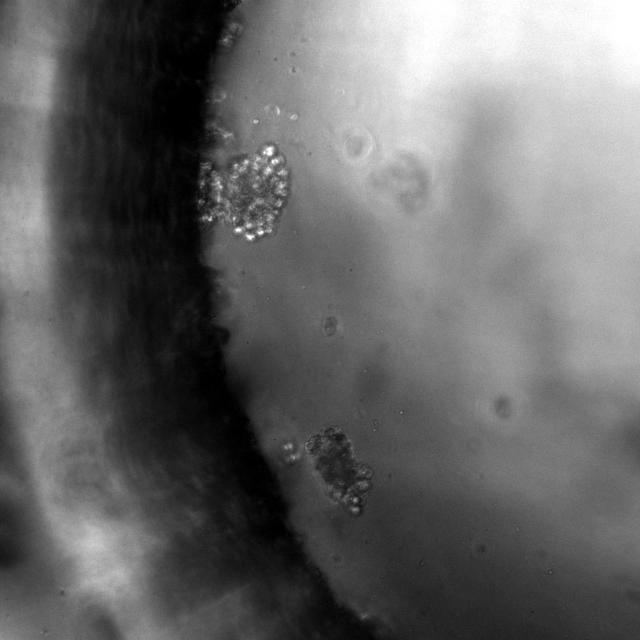organoid: (197, 142, 291, 242), (305, 426, 373, 514)
